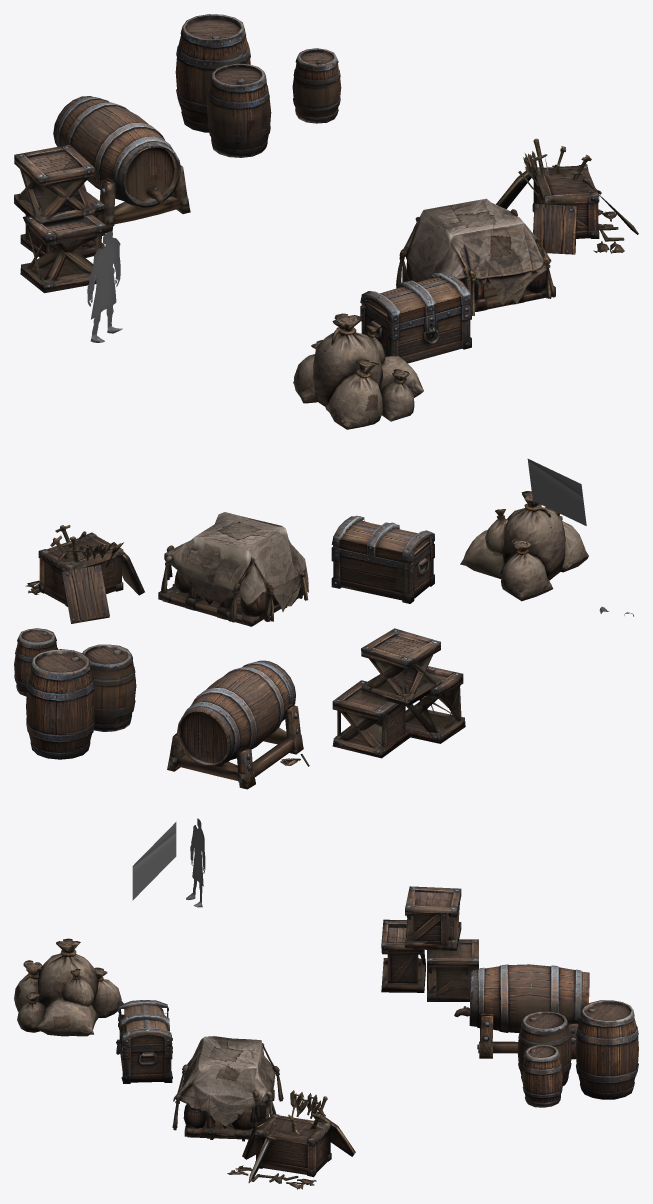
File: asset_15_storage_set.glb
3 views of the same model, one above another, from view 1: azimuth 30°, elevation 25°; view 2: azimuth 150°, elevation 25°; view 3: azimuth 270°, elevation 25° (orthographic). The views are drawn at different scales.
Parts seen in each view (by area): view 1: e716f828_8c2b_4dcc_82c4_7fd9a37b092d; view 2: e716f828_8c2b_4dcc_82c4_7fd9a37b092d; view 3: e716f828_8c2b_4dcc_82c4_7fd9a37b092d.
Part boxes in pixels (left/top/right/bottom): e716f828_8c2b_4dcc_82c4_7fd9a37b092d: left=14, top=14, right=638, bottom=429; e716f828_8c2b_4dcc_82c4_7fd9a37b092d: left=14, top=459, right=633, bottom=789; e716f828_8c2b_4dcc_82c4_7fd9a37b092d: left=14, top=818, right=638, bottom=1189.
Bounding box in the file's own units: 0.9233 × 0.2778 × 0.9995.
1 material, 1 textured.
